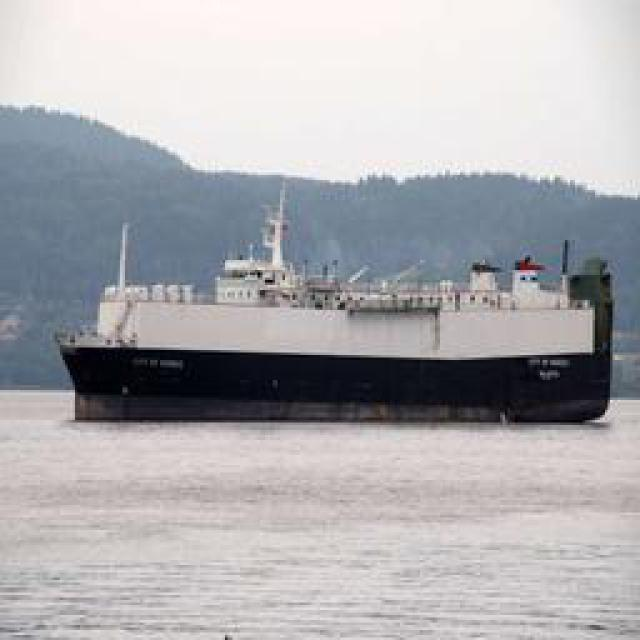Ship: (54, 214, 627, 419)
